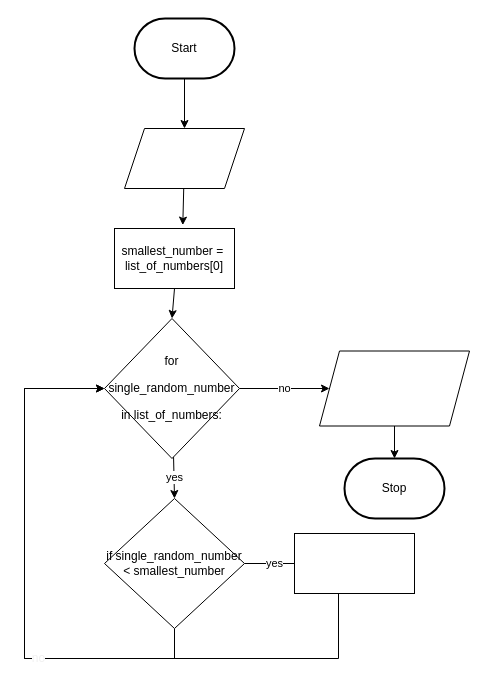
This 487x684 diagram has some shape labels left out. Each missing label, with the centre of its shape:
"get list_of_numbers" belongs at pixel 184 158.
"return smallest number" belongs at pixel 394 388.
"smallest_number = single_random_number" belongs at pixel 354 563.
